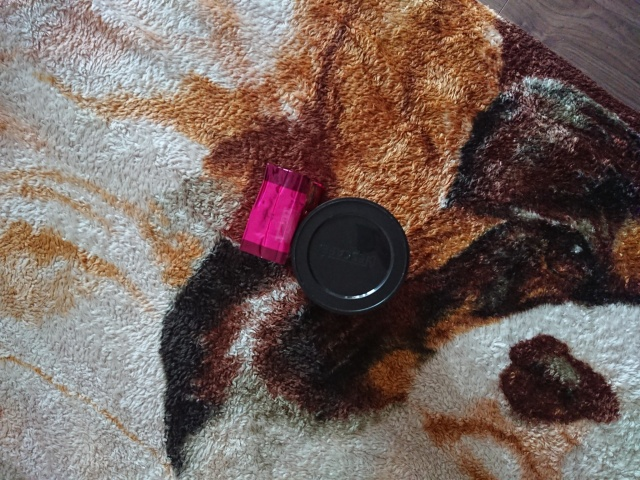Barcaffe Classic Original 225g: (236, 160, 314, 268)
Nescafe Classic 225g: (288, 195, 413, 318)
